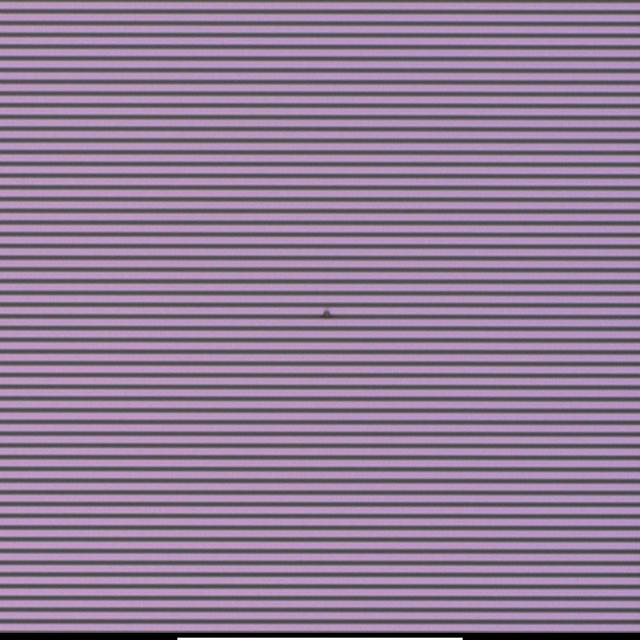nonvisual: (318, 304, 334, 324)
